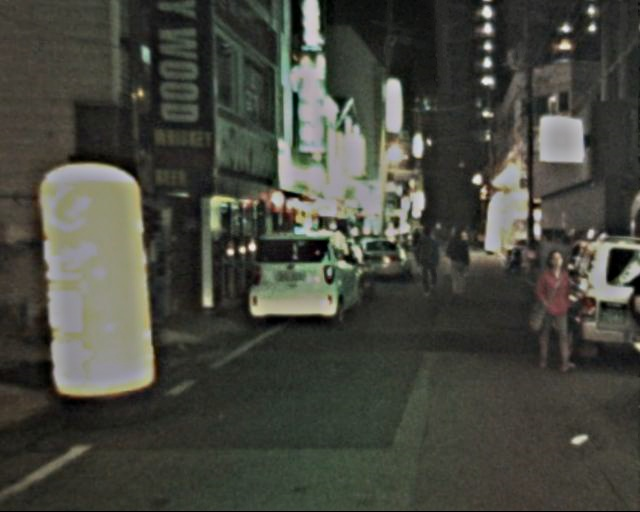person: (529, 251, 582, 375), (413, 226, 450, 301), (446, 227, 477, 297)
